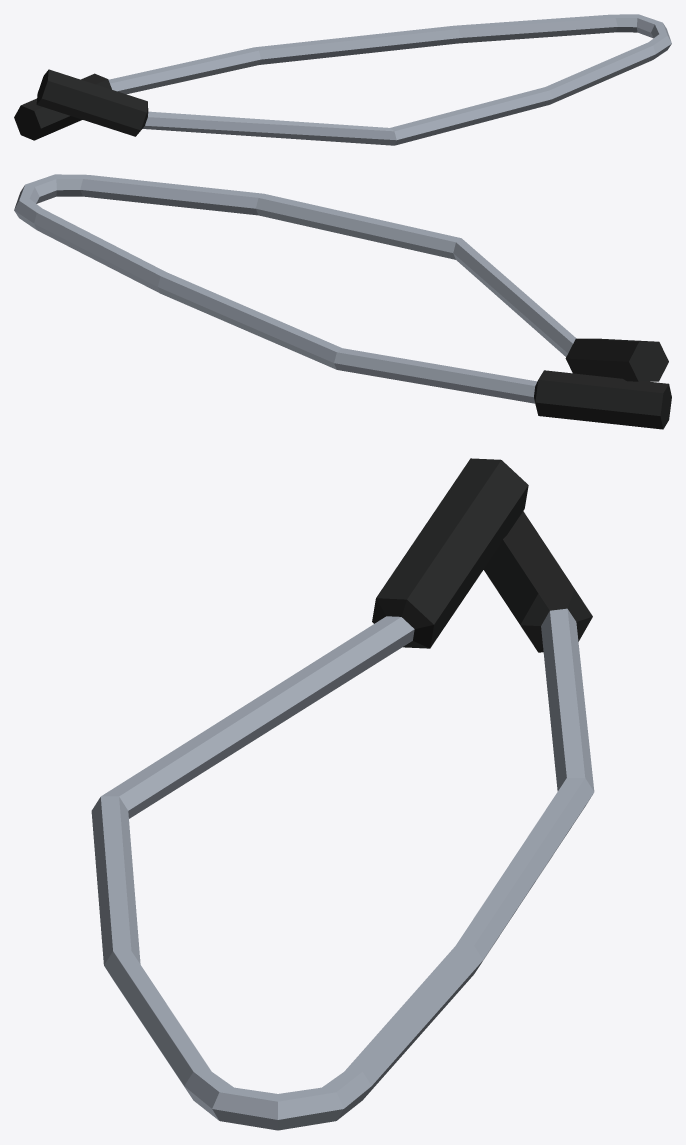
File: Skipping rope 2.fbx
3 renders of one model, top to bottom at view 1: azimuth 30°, elevation 25°; view 2: azimuth 150°, elevation 25°; view 3: azimuth 270°, elevation 25°, orthographic. The views are drawn at different scales.
Visible parts, largest first — view 1: skipping rope 2; view 2: skipping rope 2; view 3: skipping rope 2.
Boxes of the visible parts, x1,y1,x2,y2 form: skipping rope 2: (14, 14, 671, 145); skipping rope 2: (14, 174, 671, 429); skipping rope 2: (91, 458, 594, 1130).
Size of the model in its own units: 99.6 by 10.32 by 36.87.
